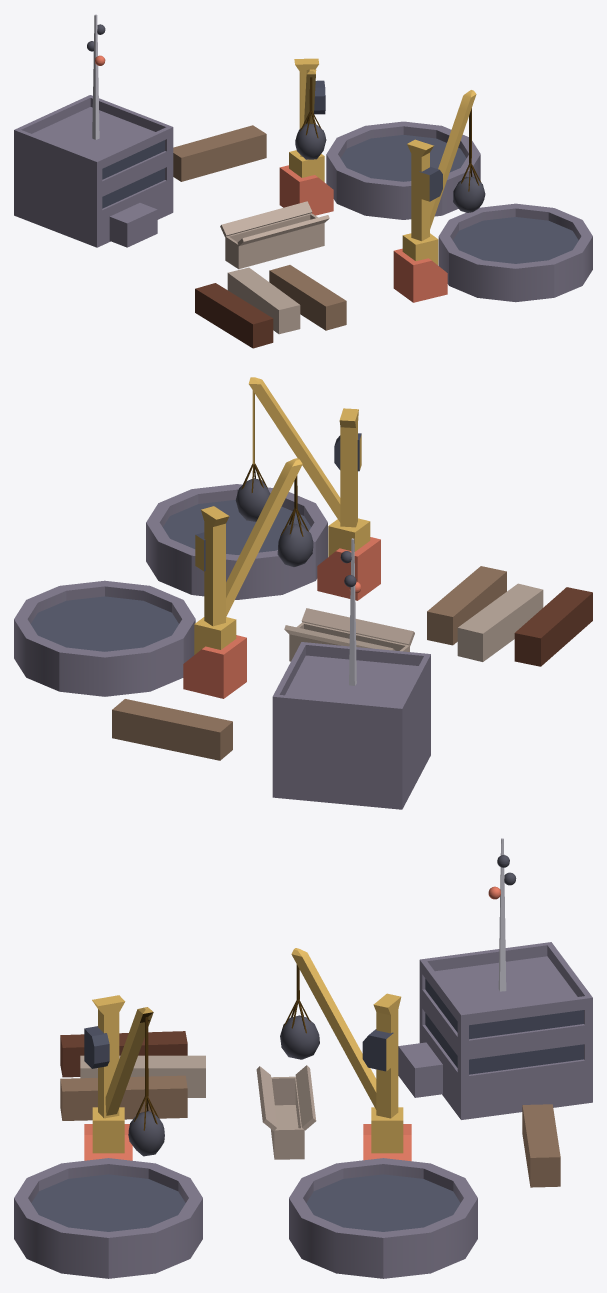
The model's file is fishing2.glb.
3 renders of one model, top to bottom at view 1: azimuth 30°, elevation 25°; view 2: azimuth 150°, elevation 25°; view 3: azimuth 270°, elevation 25°, orthographic. The views are drawn at different scales.
Parts seen in each view (by area): view 1: Cube.007, Cylinder.001, Cylinder, Cube.010, Cube.011, Cube.002, Cube.009, Cube.005, Cube.006, Cube.001, Cube.008, Cube.003 (+1 smaller); view 2: Cube.007, Cylinder, Cylinder.001, Cube.003, Cube.010, Cube.002, Cube.001, Cube.009, Cube.008, Cube.005, Cube.011, Cube.006 (+1 smaller); view 3: Cube.007, Cylinder.001, Cylinder, Cube.003, Cube.010, Cube.011, Cube.006, Cube.002, Cube.008, Cube.009, Cube.001, Cube.005 (+1 smaller).
Part boxes in pixels (x1,y1,x2,y2): Cube.007: [14, 95, 173, 247]; Cylinder.001: [438, 203, 592, 302]; Cylinder: [326, 121, 480, 219]; Cube.010: [407, 90, 485, 241]; Cube.011: [220, 201, 329, 269]; Cube.002: [173, 125, 266, 181]; Cube.009: [195, 283, 273, 348]; Cube.005: [393, 233, 447, 302]; Cube.006: [269, 265, 346, 330]; Cube.001: [279, 150, 333, 215]; Cube.008: [227, 267, 300, 334]; Cube.003: [294, 58, 326, 159]; Cube.007: [272, 642, 430, 809]; Cylinder: [14, 580, 195, 696]; Cylinder.001: [146, 484, 327, 599]; Cube.003: [195, 458, 313, 626]; Cube.010: [235, 377, 361, 527]; Cube.002: [112, 699, 232, 760]; Cube.001: [183, 617, 246, 698]; Cube.009: [514, 587, 592, 666]; Cube.008: [457, 583, 543, 661]; Cube.005: [317, 518, 380, 600]; Cube.011: [284, 608, 414, 661]; Cube.006: [427, 566, 506, 645]; Cube.007: [398, 942, 592, 1119]; Cylinder.001: [14, 1158, 202, 1278]; Cylinder: [289, 1158, 477, 1278]; Cube.003: [280, 948, 401, 1118]; Cube.010: [84, 995, 164, 1156]; Cube.011: [256, 1065, 316, 1159]; Cube.006: [60, 1075, 187, 1120]; Cube.002: [522, 1104, 560, 1187]; Cube.008: [80, 1055, 205, 1097]; Cube.009: [60, 1031, 187, 1077]; Cube.001: [363, 1107, 411, 1161]; Cube.005: [84, 1107, 132, 1160].
Size of the model in its own units: 1.36 by 0.6684 by 1.43.
